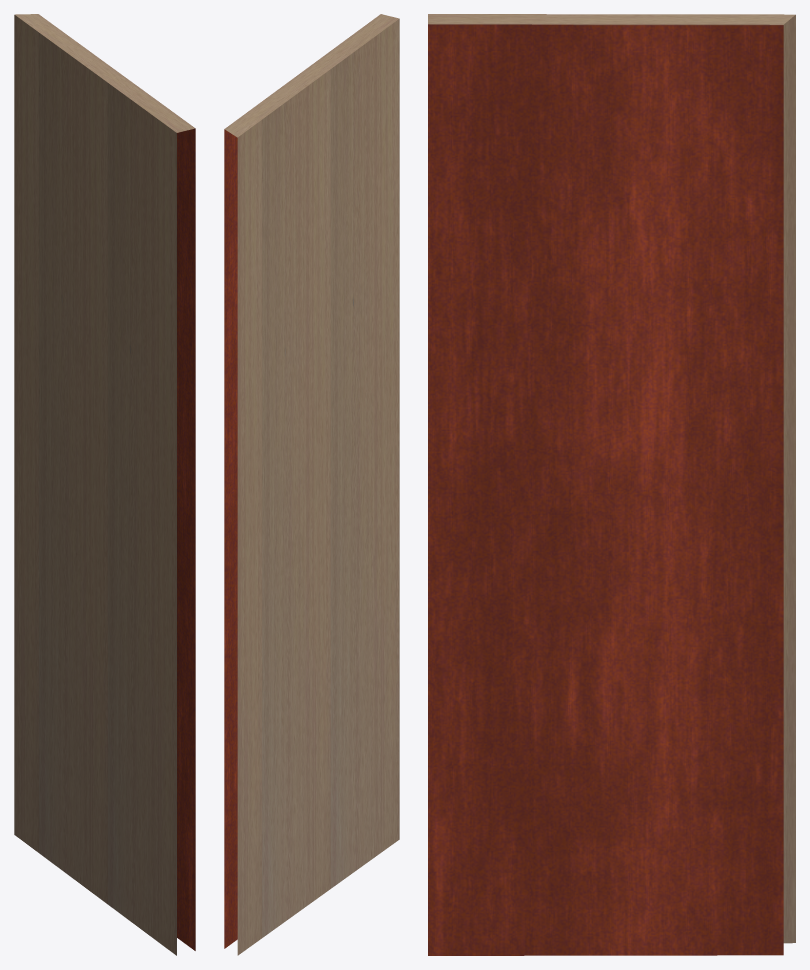
File: SM_Office_Kitchen_Wall.fbx
The picture shows the model from 3 angles, left to right: view 1: azimuth 30°, elevation 25°; view 2: azimuth 150°, elevation 25°; view 3: azimuth 270°, elevation 25°; orthographic projection. The views are drawn at different scales.
Visible parts, largest first — view 1: SM_Office_Kitchen_Wall; view 2: SM_Office_Kitchen_Wall; view 3: SM_Office_Kitchen_Wall.
Part boxes in pixels (bbox=[...]): SM_Office_Kitchen_Wall: bbox=[14, 14, 195, 955]; SM_Office_Kitchen_Wall: bbox=[224, 14, 399, 955]; SM_Office_Kitchen_Wall: bbox=[428, 14, 795, 955].
Size of the model in its own units: 7.09 by 106 by 297.
Materials: 1 (1 with a texture image).
